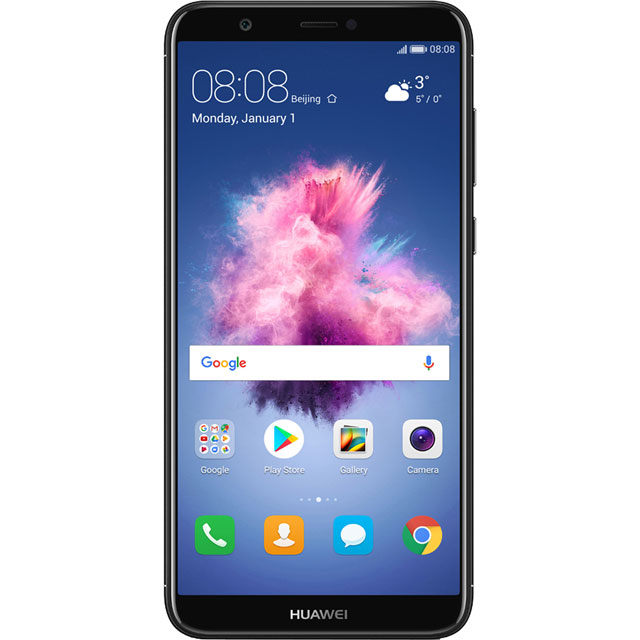mobile: (164, 1, 488, 639)
